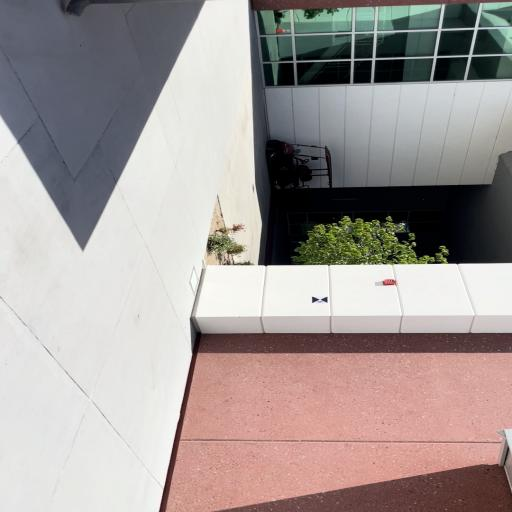target6: (312, 297, 328, 303)
